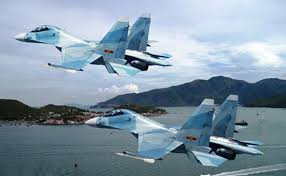maybay_muctieu: (94, 90, 262, 171), (15, 17, 174, 82)
